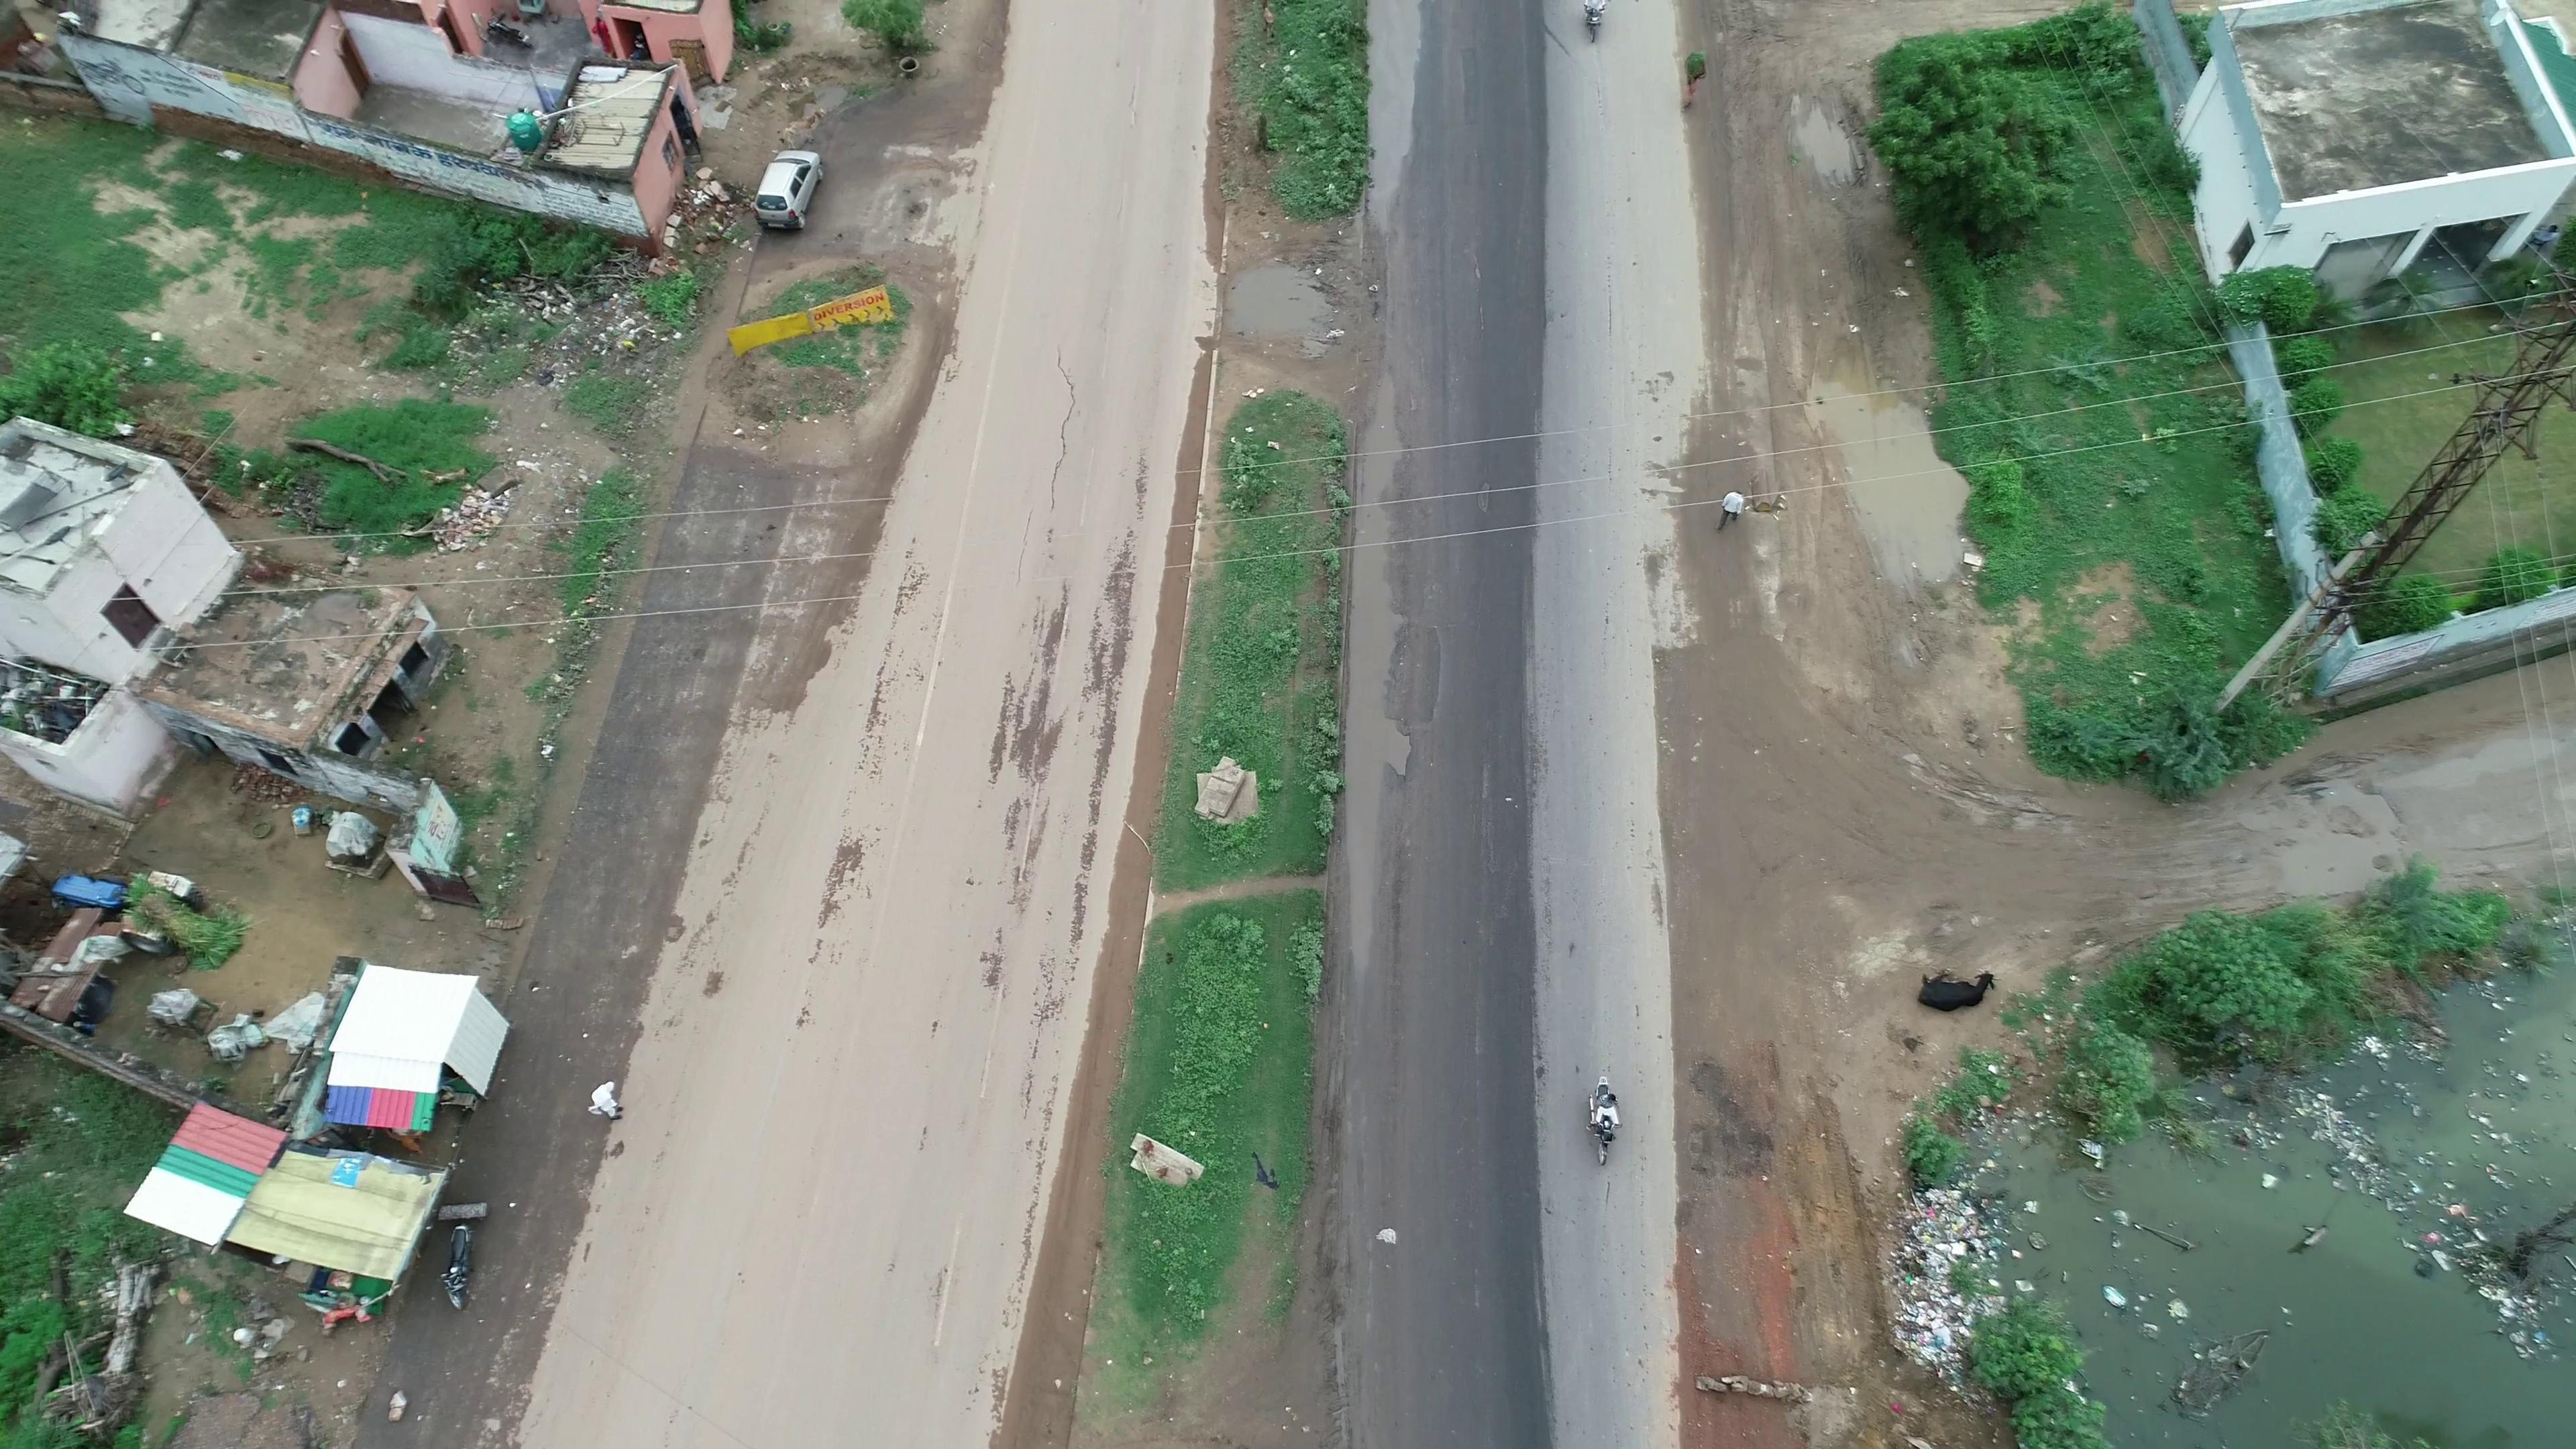Ravelling: (991, 520, 1125, 883)
